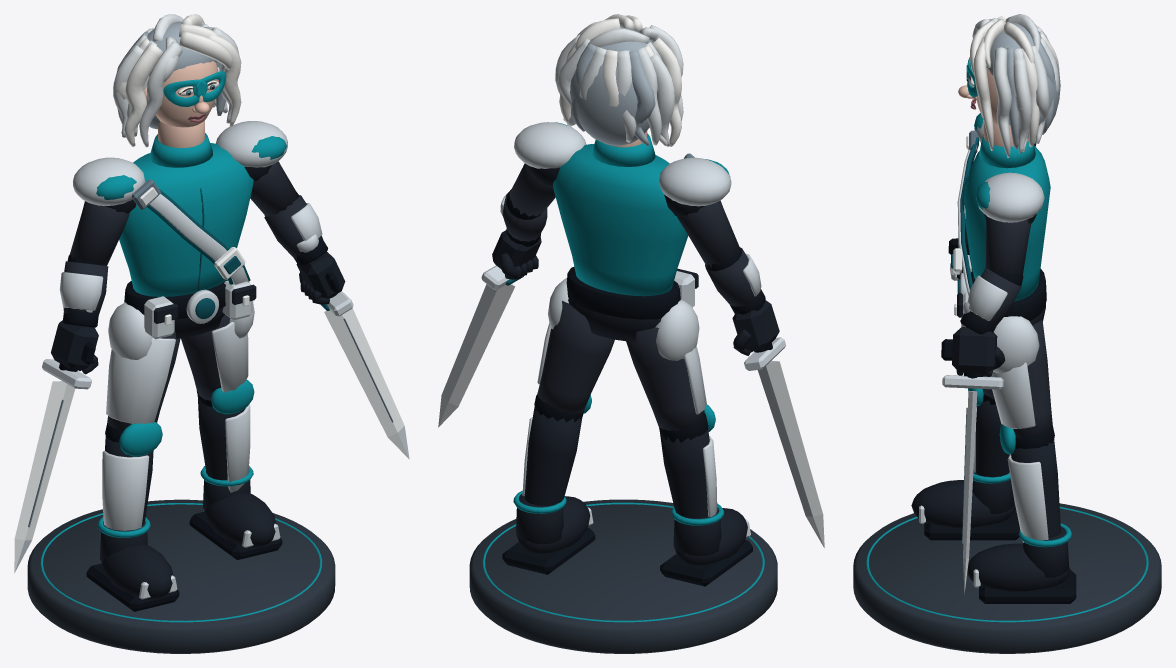
File: killcam.glb
3 renders of one model, left to right at view 1: azimuth 30°, elevation 25°; view 2: azimuth 150°, elevation 25°; view 3: azimuth 270°, elevation 25°, orthographic.
Parts seen in each view (by area): view 1: killcam_plinth, killcam_glossy_teal_armored_torso, killcam_right_bright_outer_thigh_armor, killcam_right_long_straight_molecular_blade, killcam_left_long_straight_molecular_blade, killcam_right_silver_outer_greave, killcam_right_armored_boot_toe, killcam_left_armored_boot_toe, killcam_right_black_fitted_upper_sleeve, killcam_right_silver_shoulder_cap, killcam_left_silver_shoulder_cap, killcam_left_bright_outer_thigh_armor (+40 smaller); view 2: killcam_plinth, killcam_glossy_teal_armored_torso, killcam_left_fitted_black_thigh, killcam_right_fitted_black_thigh, killcam_left_black_shin, killcam_right_long_straight_molecular_blade, killcam_left_long_straight_molecular_blade, killcam_wavy_back_hair_mass, killcam_right_black_shin, killcam_right_silver_shoulder_cap, killcam_dark_utility_belt, killcam_left_silver_shoulder_cap (+31 smaller); view 3: killcam_plinth, killcam_glossy_teal_armored_torso, killcam_left_armored_boot_toe, killcam_right_armored_boot_toe, killcam_left_silver_shoulder_cap, killcam_left_silver_outer_greave, killcam_left_black_fitted_upper_sleeve, killcam_left_bright_outer_thigh_armor, killcam_right_black_shin, killcam_left_silver_hip_guard, killcam_left_fitted_black_thigh, killcam_left_black_shin (+26 smaller).
Boxes of the visible parts, bbox=[...] form: killcam_plinth: bbox=[27, 499, 335, 653]; killcam_glossy_teal_armored_torso: bbox=[119, 143, 253, 296]; killcam_right_bright_outer_thigh_armor: bbox=[106, 338, 175, 423]; killcam_right_long_straight_molecular_blade: bbox=[14, 381, 75, 573]; killcam_left_long_straight_molecular_blade: bbox=[324, 308, 409, 459]; killcam_right_silver_outer_greave: bbox=[102, 450, 149, 530]; killcam_right_armored_boot_toe: bbox=[101, 544, 173, 599]; killcam_left_armored_boot_toe: bbox=[204, 493, 276, 547]; killcam_right_black_fitted_upper_sleeve: bbox=[69, 201, 129, 265]; killcam_right_silver_shoulder_cap: bbox=[73, 157, 145, 205]; killcam_left_silver_shoulder_cap: bbox=[216, 121, 287, 167]; killcam_left_bright_outer_thigh_armor: bbox=[211, 322, 248, 392]; killcam_plinth: bbox=[469, 499, 777, 653]; killcam_glossy_teal_armored_torso: bbox=[553, 144, 688, 296]; killcam_left_fitted_black_thigh: bbox=[537, 301, 614, 413]; killcam_right_fitted_black_thigh: bbox=[626, 327, 705, 430]; killcam_left_black_shin: bbox=[524, 407, 582, 505]; killcam_right_long_straight_molecular_blade: bbox=[757, 360, 824, 547]; killcam_left_long_straight_molecular_blade: bbox=[438, 283, 515, 427]; killcam_wavy_back_hair_mass: bbox=[570, 60, 649, 145]; killcam_right_black_shin: bbox=[659, 429, 709, 518]; killcam_right_silver_shoulder_cap: bbox=[658, 157, 731, 206]; killcam_dark_utility_belt: bbox=[566, 267, 680, 319]; killcam_left_silver_shoulder_cap: bbox=[514, 122, 586, 168]; killcam_plinth: bbox=[853, 503, 1161, 653]; killcam_glossy_teal_armored_torso: bbox=[964, 146, 1050, 301]; killcam_left_armored_boot_toe: bbox=[967, 543, 1070, 591]; killcam_right_armored_boot_toe: bbox=[911, 480, 1015, 527]; killcam_left_silver_shoulder_cap: bbox=[978, 172, 1044, 222]; killcam_left_silver_outer_greave: bbox=[1007, 454, 1048, 542]; killcam_left_black_fitted_upper_sleeve: bbox=[985, 217, 1031, 276]; killcam_left_bright_outer_thigh_armor: bbox=[990, 362, 1035, 428]; killcam_right_black_shin: bbox=[975, 400, 1009, 477]; killcam_left_silver_hip_guard: bbox=[993, 316, 1039, 373]; killcam_left_fitted_black_thigh: bbox=[1013, 319, 1052, 439]; killcam_left_black_shin: bbox=[1011, 439, 1060, 538].
Bounding box in the file's own units: 1.91 × 2.66 × 1.3.
